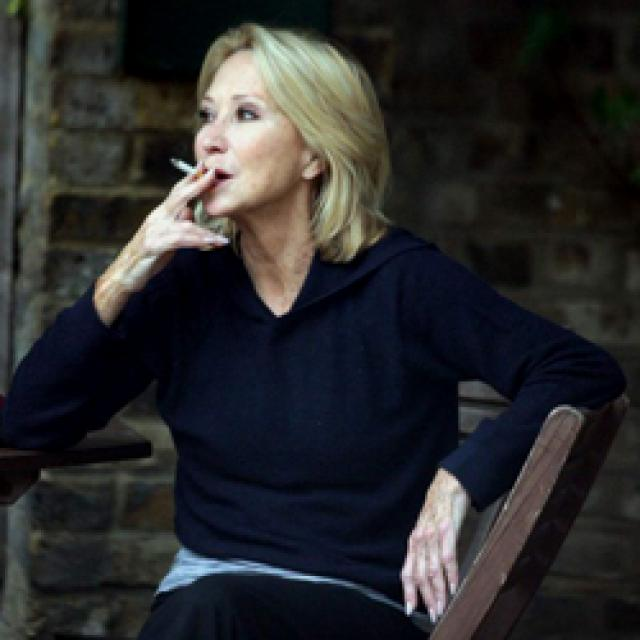Smooking: (168, 153, 196, 174)
